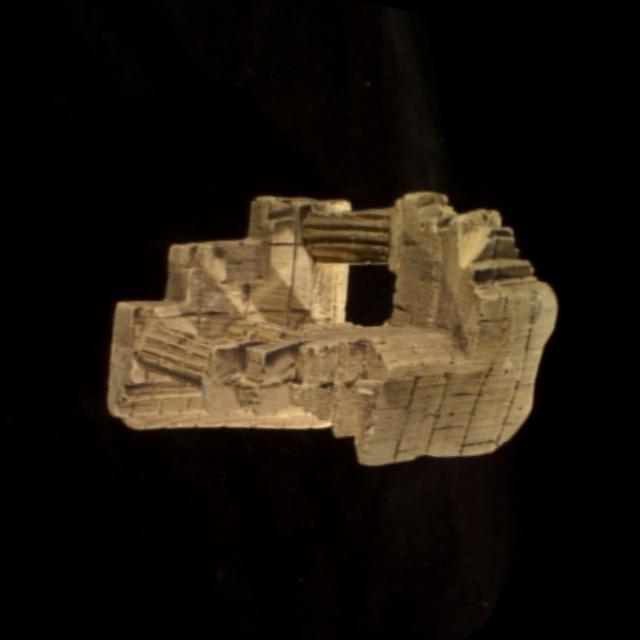Instance-Segmentation: (107, 191, 557, 464)
